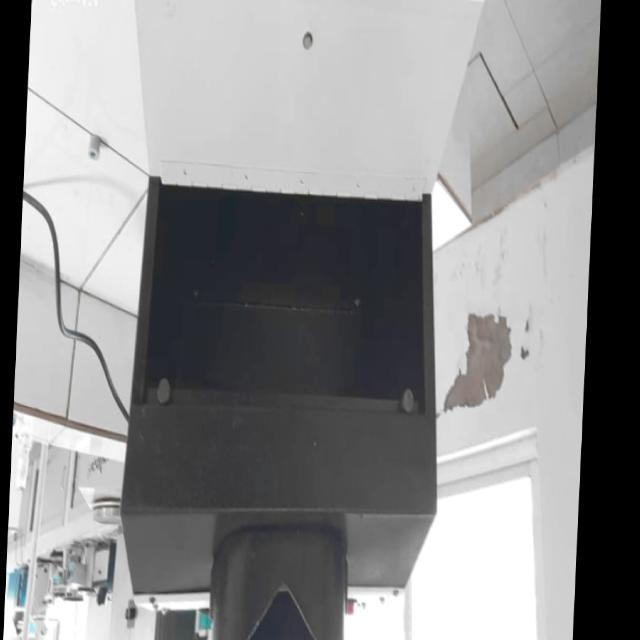U.V Cabinet: (116, 157, 472, 640)
